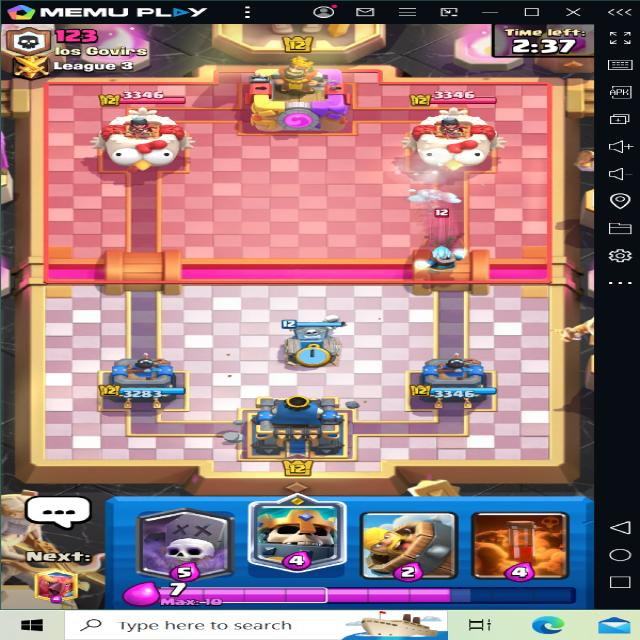Bandit: (424, 206, 468, 248)
